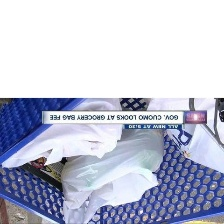plastic_bag: (58, 117, 171, 223), (0, 97, 128, 171), (140, 97, 224, 180)
